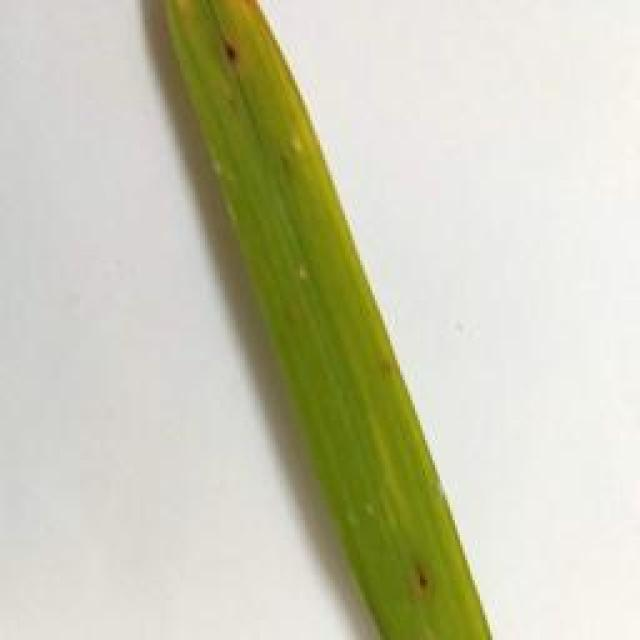Brown_Spot: (392, 542, 458, 618), (214, 30, 250, 74), (377, 366, 408, 391)
